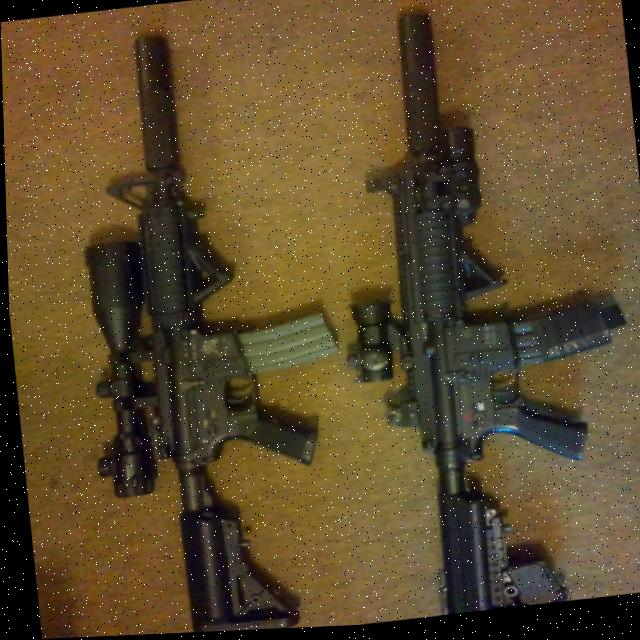firearm: (311, 0, 637, 628), (50, 18, 357, 638)
